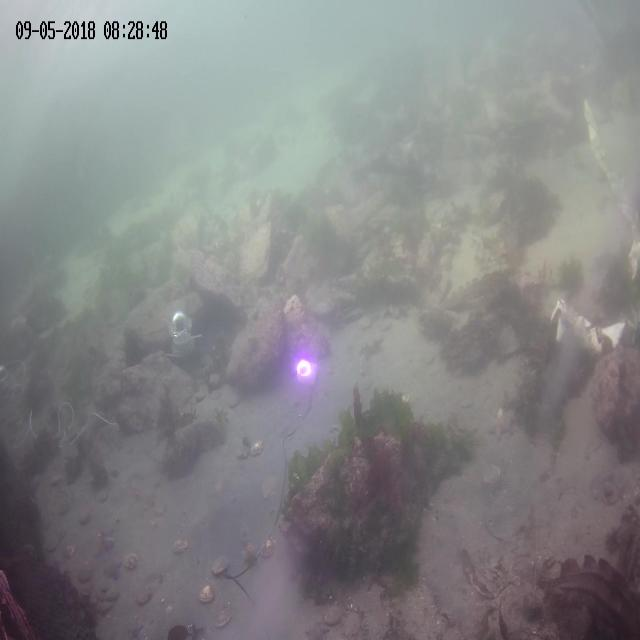scallop: (341, 614, 363, 636), (197, 583, 214, 605), (216, 607, 232, 629), (123, 550, 139, 572), (322, 604, 341, 622), (212, 555, 227, 576), (260, 537, 274, 559), (172, 537, 190, 554), (236, 441, 251, 459), (61, 542, 76, 560), (78, 559, 90, 581), (250, 438, 266, 454)
starfish: (486, 408, 511, 441), (94, 529, 115, 554), (239, 539, 256, 567), (102, 560, 119, 580)
